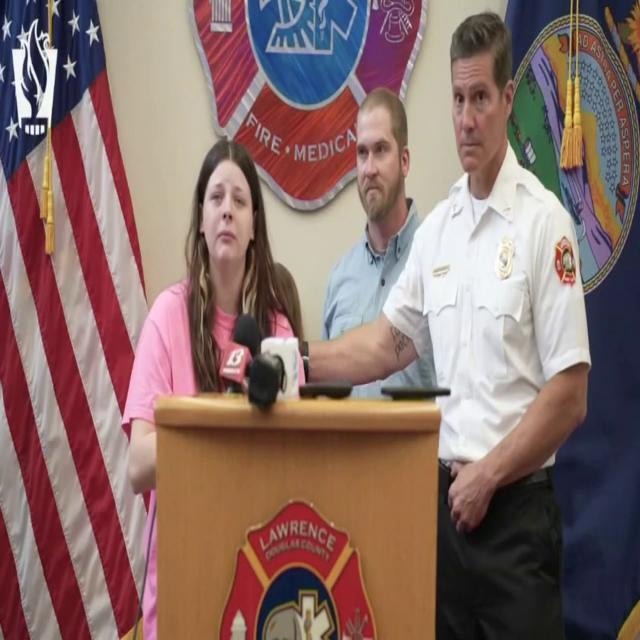adult: (440, 12, 590, 640), (124, 134, 304, 640), (307, 78, 440, 456)
